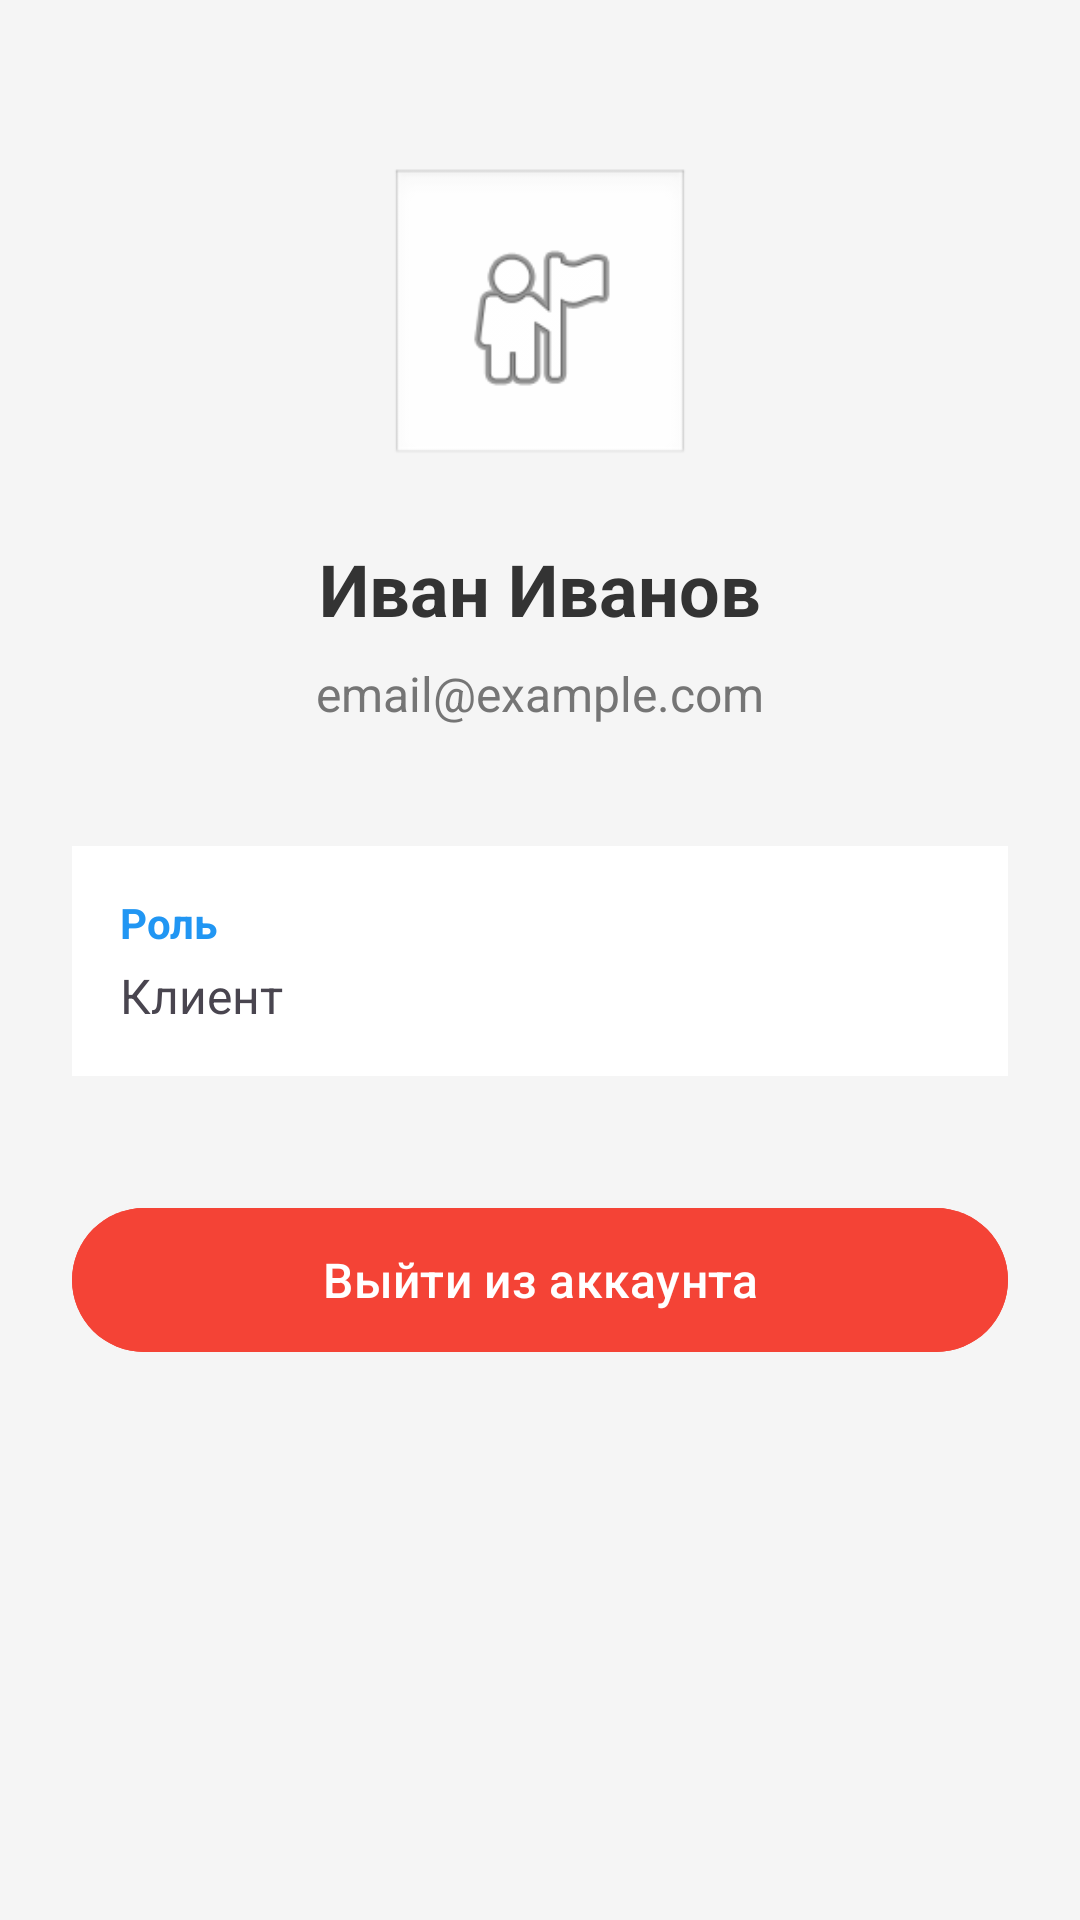

Icon click points for this 1080*1920 phone screenshot, format point (x, y):
myplaces: point (540, 310)
